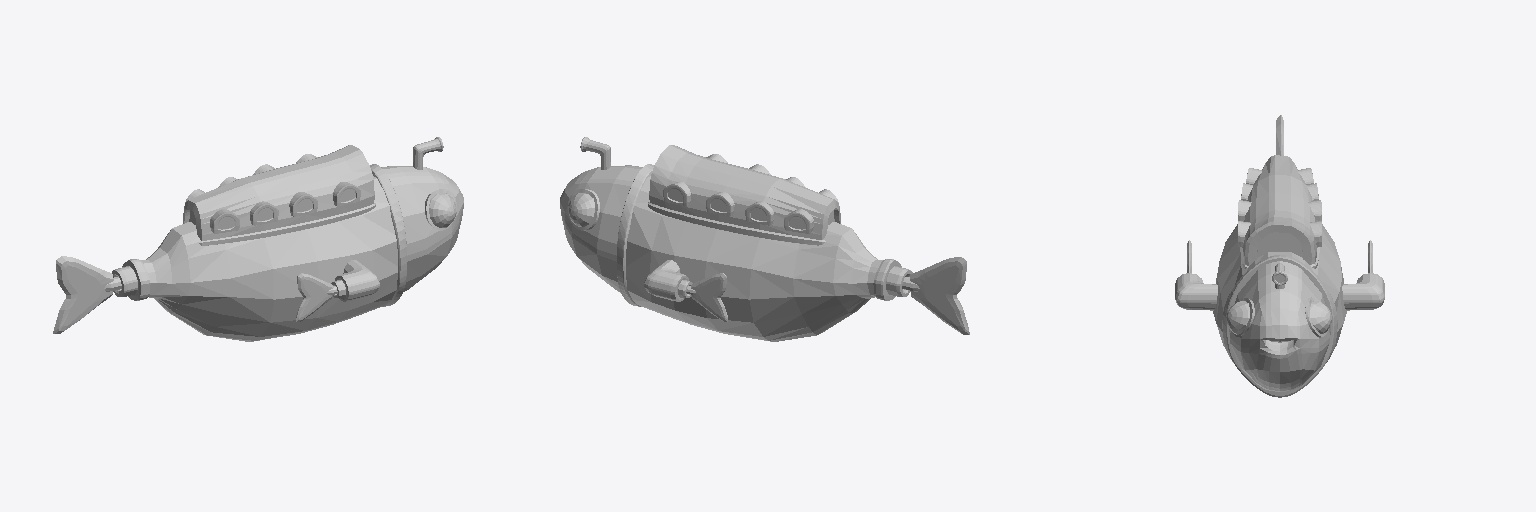
File: SM_FishSubmarine_FINAL.obj
3 views of the same model, side by side, from view 1: azimuth 30°, elevation 25°; view 2: azimuth 150°, elevation 25°; view 3: azimuth 270°, elevation 25° (orthographic).
Parts seen in each view (by area): view 1: polySurface44; view 2: polySurface44; view 3: polySurface44.
Boxes of the visible parts, x1=… form: polySurface44: x1=53, y1=137, x2=463, y2=341; polySurface44: x1=560, y1=137, x2=969, y2=341; polySurface44: x1=1175, y1=115, x2=1384, y2=397.
Size of the model in its own units: 11.62 by 4.63 by 5.25.